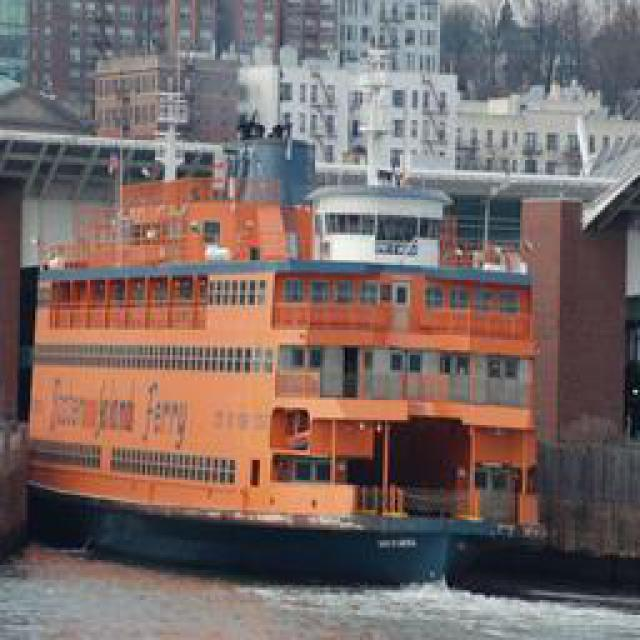Ship: (20, 99, 548, 594)
